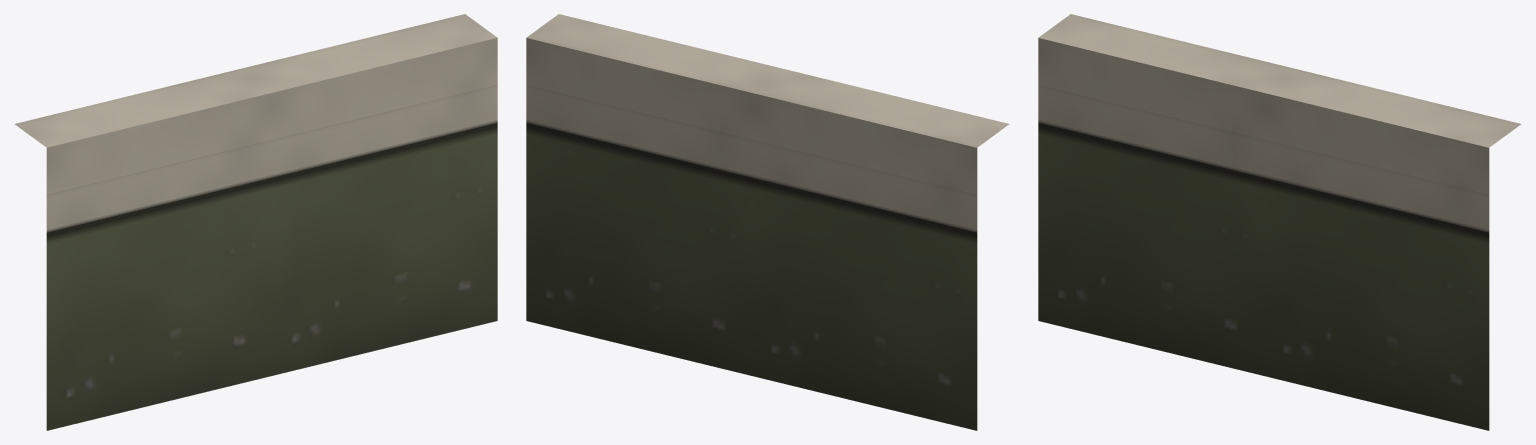
The model's file is wall_bunker_low.glb.
3 views of the same model, side by side, from view 1: azimuth 30°, elevation 25°; view 2: azimuth 150°, elevation 25°; view 3: azimuth 330°, elevation 25° (orthographic).
Parts seen in each view (by area): view 1: wall_bunker_low; view 2: wall_bunker_low; view 3: wall_bunker_low.
Boxes of the visible parts, left/top/right/bottom form: wall_bunker_low: left=14, top=14, right=497, bottom=430; wall_bunker_low: left=526, top=14, right=1009, bottom=430; wall_bunker_low: left=1038, top=14, right=1521, bottom=430.
Size of the model in its own units: 2 by 1.2 by 0.25.
Materials: 1 (1 with a texture image).
